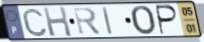C: (21, 6, 49, 38)
H: (42, 6, 74, 39)
I: (101, 6, 114, 37)
O: (129, 4, 157, 36)
P: (155, 4, 180, 37)
R: (72, 6, 103, 36)
